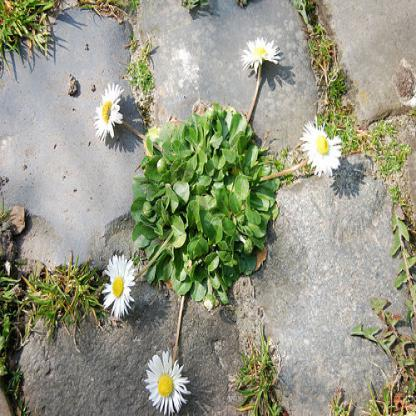ASTER: (54, 19, 366, 410)
